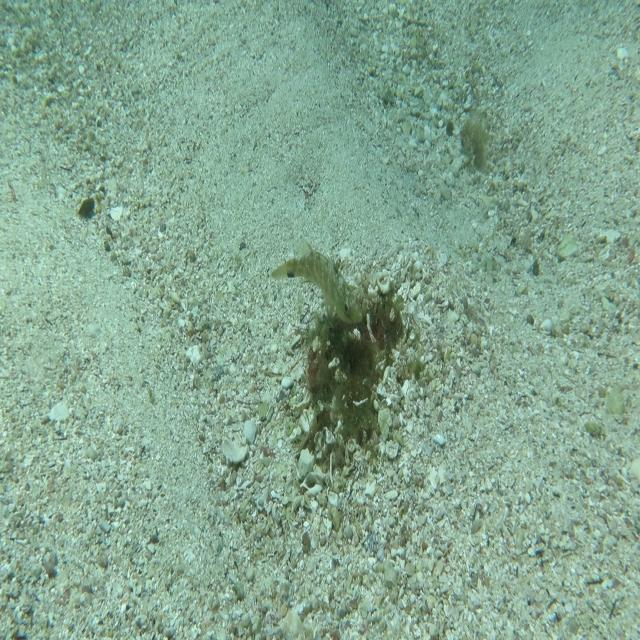FAN: (270, 236, 364, 325)
core_nest: (354, 303, 394, 342)
nest: (288, 260, 417, 473)
vegetation: (458, 104, 490, 173), (78, 195, 95, 223)
